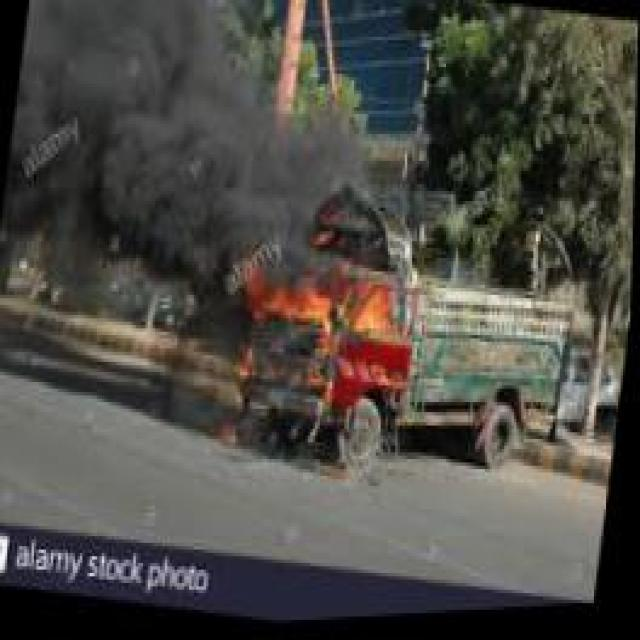Fire: (228, 221, 427, 375)
Smoke: (5, 0, 347, 255)
